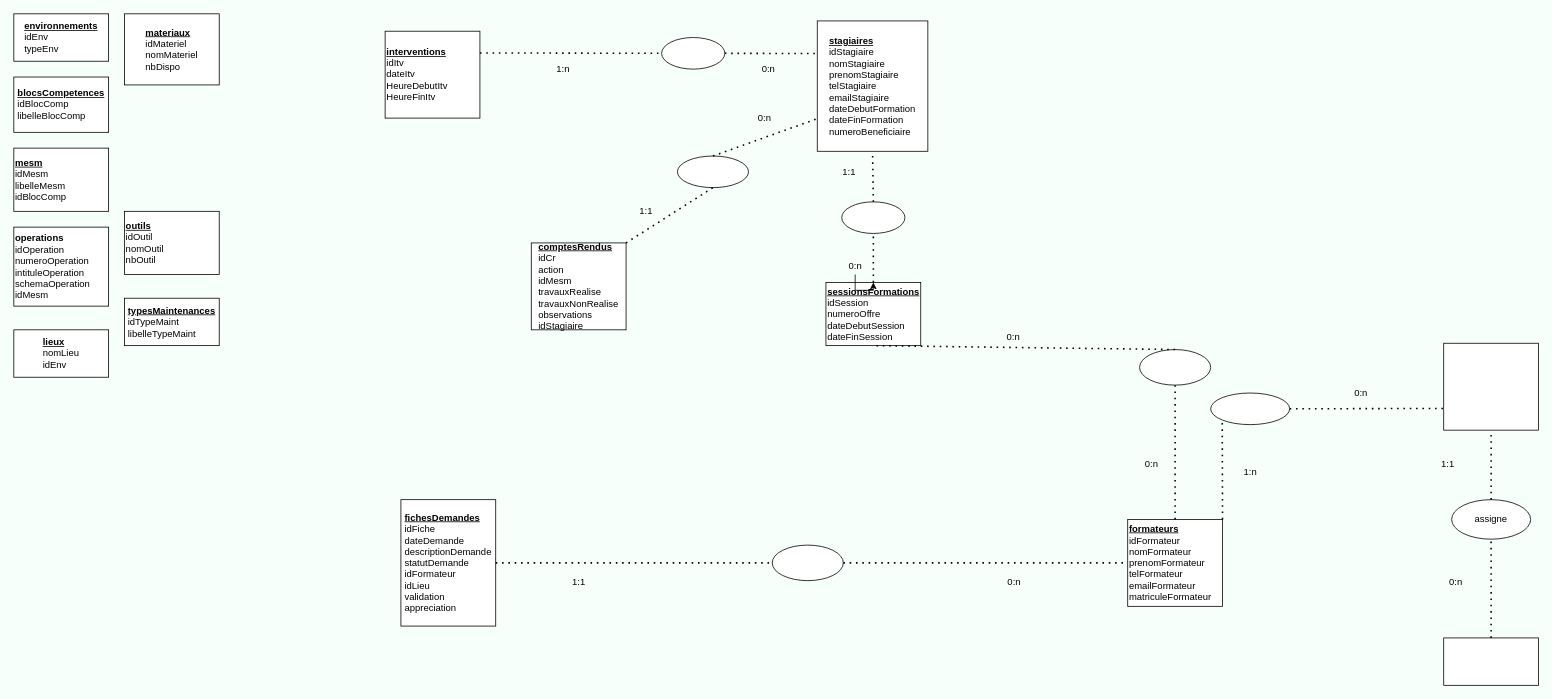
Image size: 1552x699. Some labels were removed from this diagram. Here are the shapes that lost their labels. From the top down, the centre of each, then its label:
[693,53]: inerviens
[713,171]: redige
[873,217]: participe
[1175,367]: anime
[1491,386]: utilisateurs idUser nomUser prenomUser emailUser mdpUser idRole
[1250,408]: est
[807,562]: gere
[1491,661]: roles idRole libelleRole
